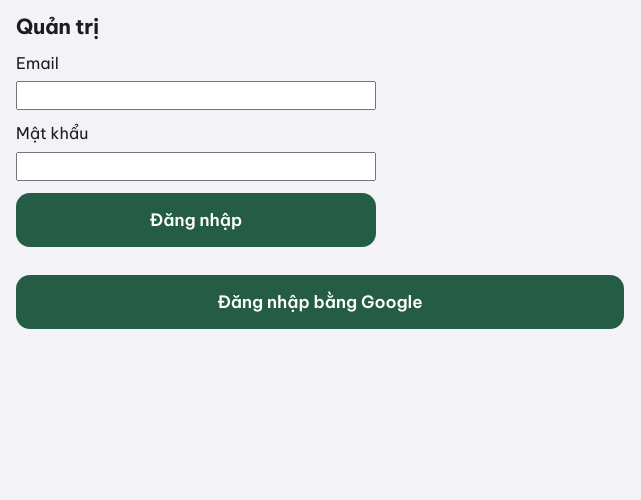
password login opens all six original sections
Type "admin@example.test" into the field labelled "Email" at x=196, y=96, box x1=16 y1=81 x2=376 y2=110
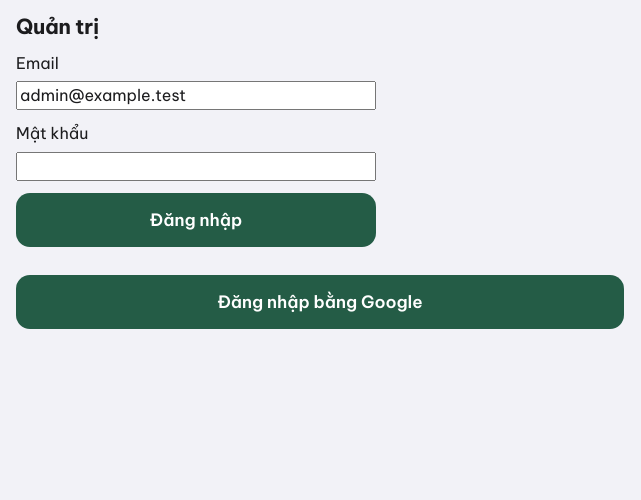
Type "test-only-password" into the password field labelled "Mật khẩu" at x=196, y=166, box x1=16 y1=152 x2=376 y2=181
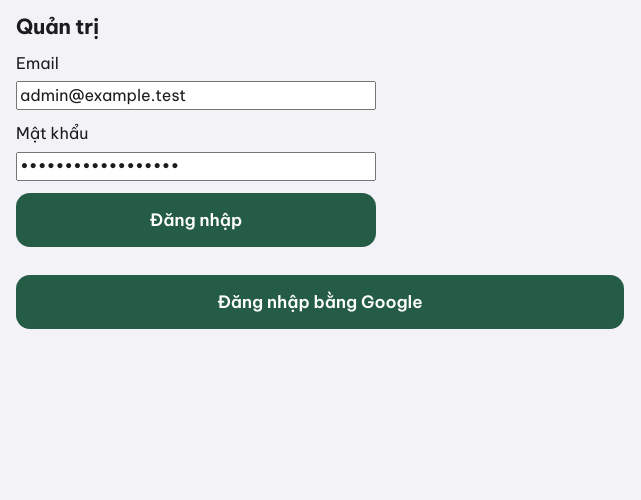
Click the button "Đăng nhập" at x=196, y=220, box x1=16 y1=193 x2=376 y2=247
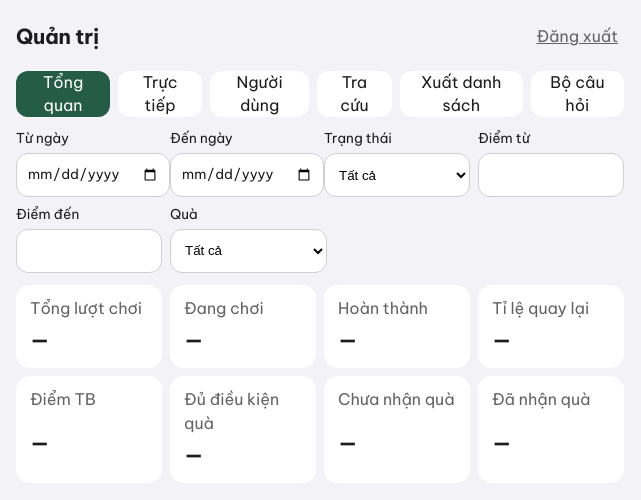
Expected: the button "Tổng quan" is shown, x1=16 y1=71 x2=110 y2=117
Expected: the button "Trực tiếp" is shown, x1=118 y1=71 x2=202 y2=117
Expected: the button "Người dùng" is shown, x1=210 y1=71 x2=309 y2=117
